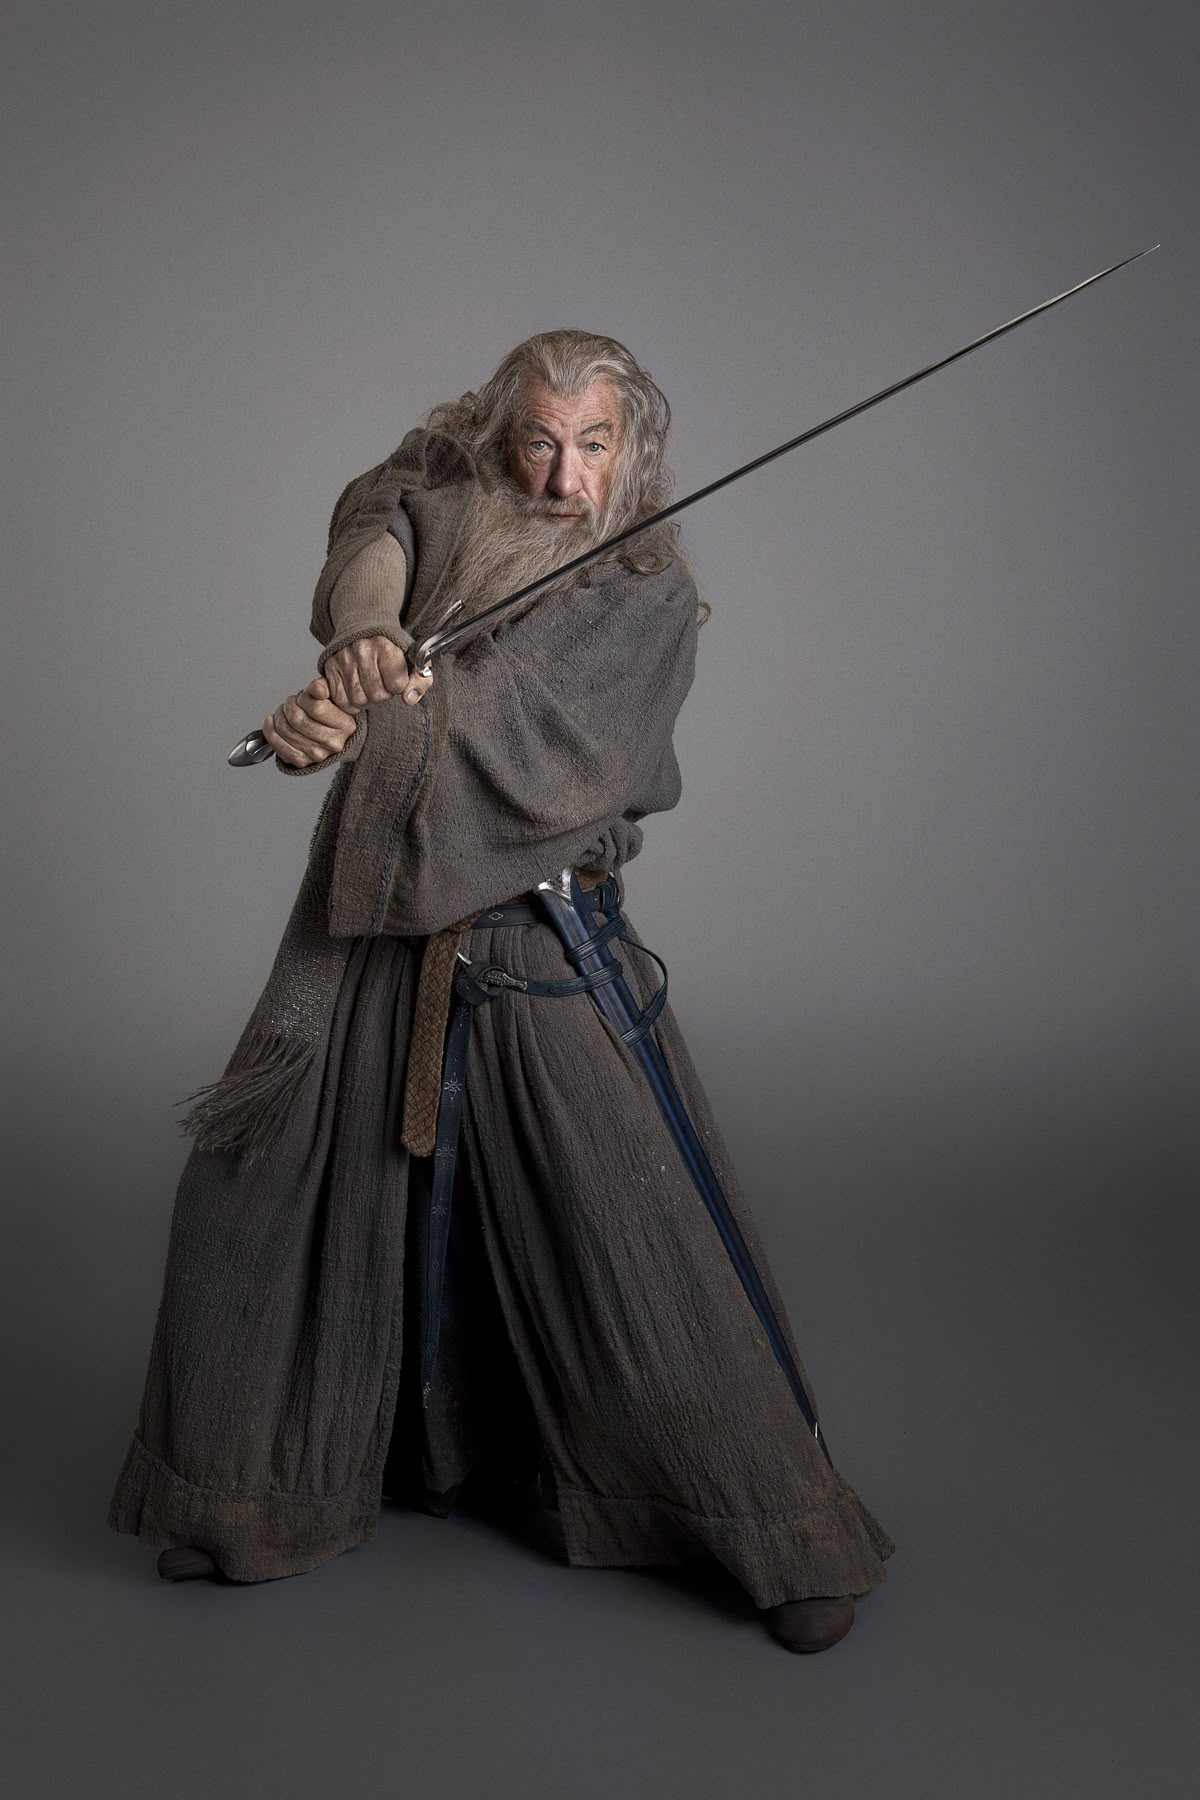gandalf grey: (118, 331, 980, 1617)
